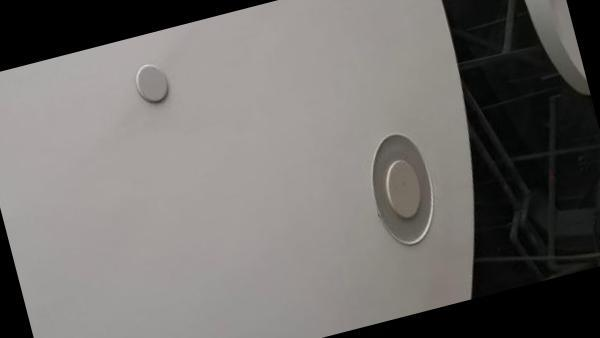light_off: (326, 99, 467, 282)
